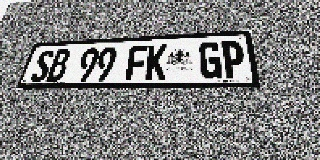9: (93, 47, 118, 81), (75, 48, 100, 81)
B: (46, 49, 71, 82)
F: (125, 45, 148, 80)
G: (199, 41, 222, 79)
K: (145, 44, 167, 80)
P: (221, 40, 246, 79)
S: (29, 50, 55, 82)
